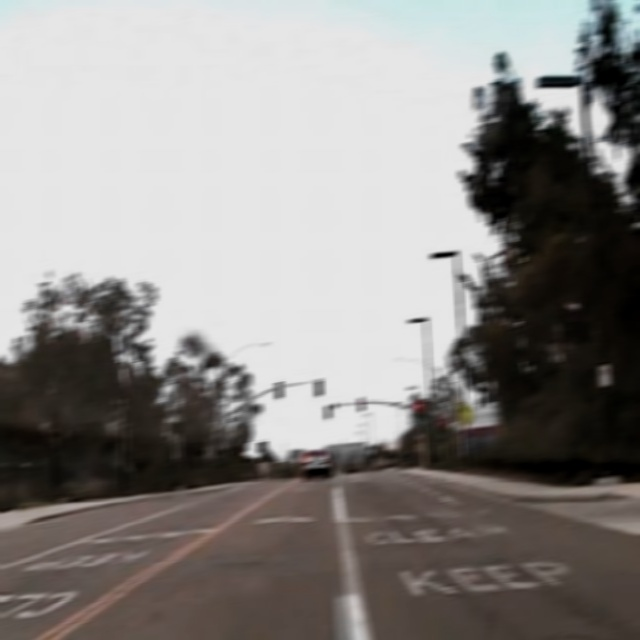school: (457, 397, 471, 418)
